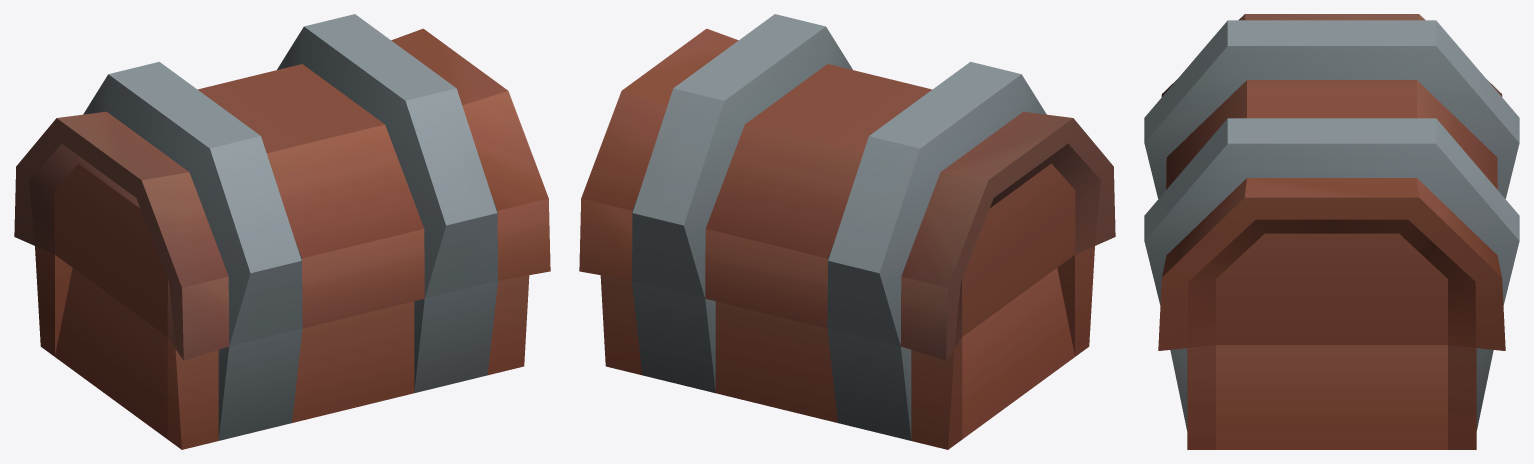
Rendered from kay-bauzinho.gltf.
3 views of the same model, side by side, from view 1: azimuth 30°, elevation 25°; view 2: azimuth 150°, elevation 25°; view 3: azimuth 270°, elevation 25° (orthographic). The views are drawn at different scales.
Visible parts, largest first — view 1: trunk_small_A; view 2: trunk_small_A; view 3: trunk_small_A.
Part boxes in pixels (<box>): trunk_small_A: <box>14,14,550,449</box>; trunk_small_A: <box>579,14,1115,449</box>; trunk_small_A: <box>1144,14,1519,449</box>.
Size of the model in its own units: 0.439 by 0.3148 by 0.3792.
Materials: 1 (1 with a texture image).
